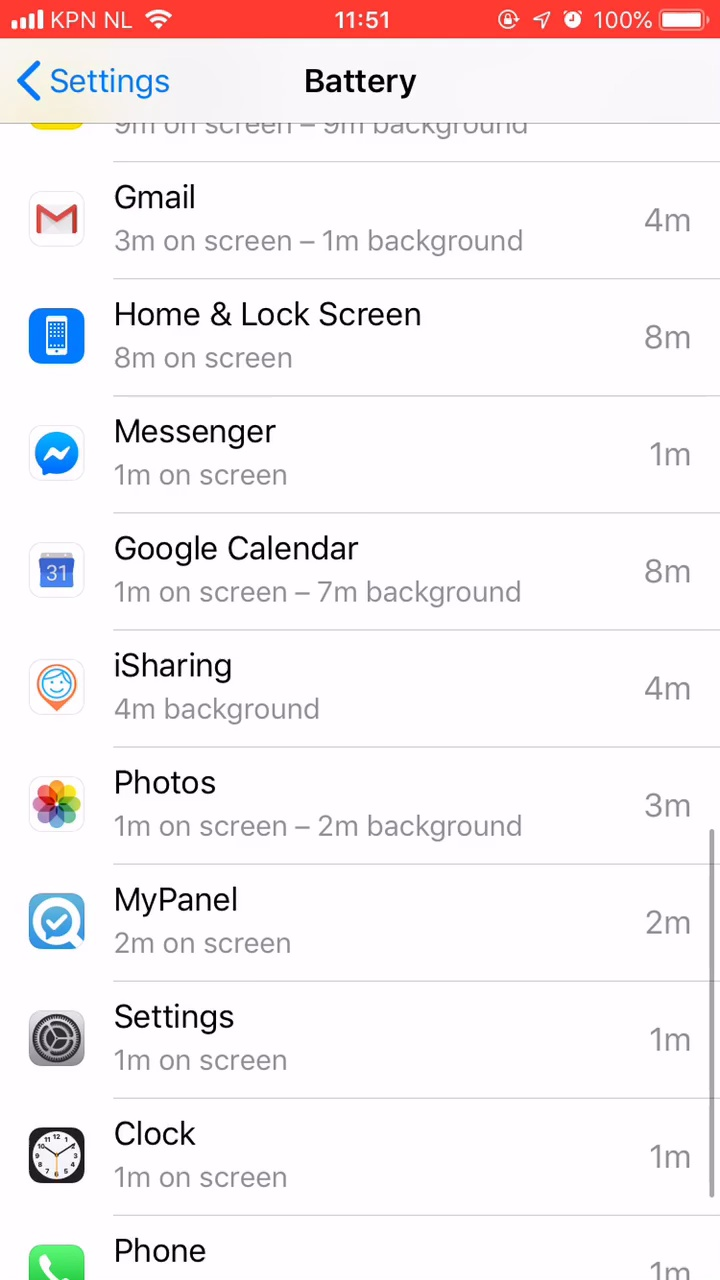app: (30, 176, 700, 262), (28, 293, 698, 379), (33, 412, 703, 498), (29, 522, 699, 608), (31, 644, 701, 730), (29, 756, 699, 842), (28, 871, 698, 957), (27, 988, 697, 1074), (23, 1107, 693, 1193)
